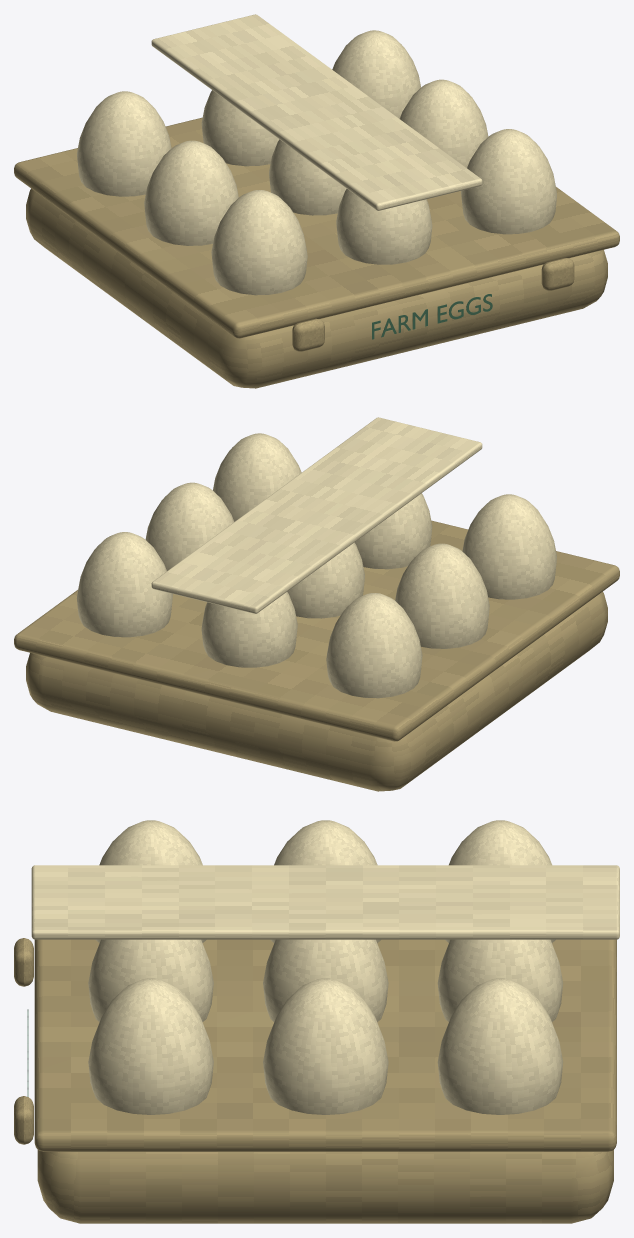
Rendered from tray.fbx.
3 renders of one model, top to bottom at view 1: azimuth 30°, elevation 25°; view 2: azimuth 150°, elevation 25°; view 3: azimuth 270°, elevation 25°, orthographic. The views are drawn at different scales.
Parts seen in each view (by area): view 1: Pulp carton rim, Molded carton base, Paper label band, Warm shell egg, Warm shell egg.006, Warm shell egg.002, Warm shell egg.001, Warm shell egg.003, Warm shell egg.007, Warm shell egg.008, Warm shell egg.004, Warm shell egg.005 (+3 smaller); view 2: Pulp carton rim, Molded carton base, Paper label band, Warm shell egg.002, Warm shell egg.008, Warm shell egg, Warm shell egg.001, Warm shell egg.005, Warm shell egg.007, Warm shell egg.006, Warm shell egg.004, Warm shell egg.003; view 3: Pulp carton rim, Paper label band, Molded carton base, Warm shell egg.008, Warm shell egg.006, Warm shell egg.007, Warm shell egg.005, Warm shell egg.003, Warm shell egg.004, Warm shell egg.002, Warm shell egg, Warm shell egg.001 (+2 smaller).
Part boxes in pixels (x1,y1,x2,y2): Pulp carton rim: (14,117,619,338); Molded carton base: (26,188,607,388); Paper label band: (151,14,482,210); Warm shell egg: (211,190,307,295); Warm shell egg.006: (461,129,556,234); Warm shell egg.002: (77,91,171,196); Warm shell egg.001: (144,140,238,245); Warm shell egg.003: (336,189,432,264); Warm shell egg.007: (399,79,488,167); Warm shell egg.008: (332,30,420,118); Warm shell egg.004: (269,139,346,215); Warm shell egg.005: (201,90,279,166); Pulp carton rim: (14,520,619,741); Molded carton base: (26,591,607,791); Paper label band: (151,417,482,613); Warm shell egg.002: (326,593,422,698); Warm shell egg.008: (77,532,172,637); Warm shell egg: (462,494,556,599); Warm shell egg.001: (395,543,489,648); Warm shell egg.005: (201,592,297,667); Warm shell egg.007: (145,482,234,570); Warm shell egg.006: (213,433,301,521); Warm shell egg.004: (287,542,364,618); Warm shell egg.003: (354,493,432,569); Pulp carton rim: (34,939,616,1151); Paper label band: (31,865,619,939); Molded carton base: (37,1150,613,1223); Warm shell egg.008: (437,978,563,1114); Warm shell egg.006: (88,978,213,1114); Warm shell egg.007: (263,978,388,1114); Warm shell egg.005: (437,939,563,1021); Warm shell egg.003: (88,939,213,1021); Warm shell egg.004: (263,939,388,1021); Warm shell egg.002: (445,820,555,942); Warm shell egg: (96,820,206,942); Warm shell egg.001: (270,820,380,942).
Size of the model in its own units: 189 by 78.75 by 198.
3 materials, 2 textured.
